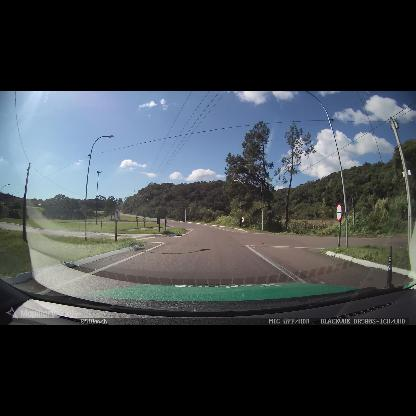R-2: (136, 217, 139, 221)
R-24a: (336, 203, 342, 221), (143, 217, 146, 222), (165, 216, 167, 223), (242, 216, 244, 223)
R-3: (114, 208, 120, 222)
